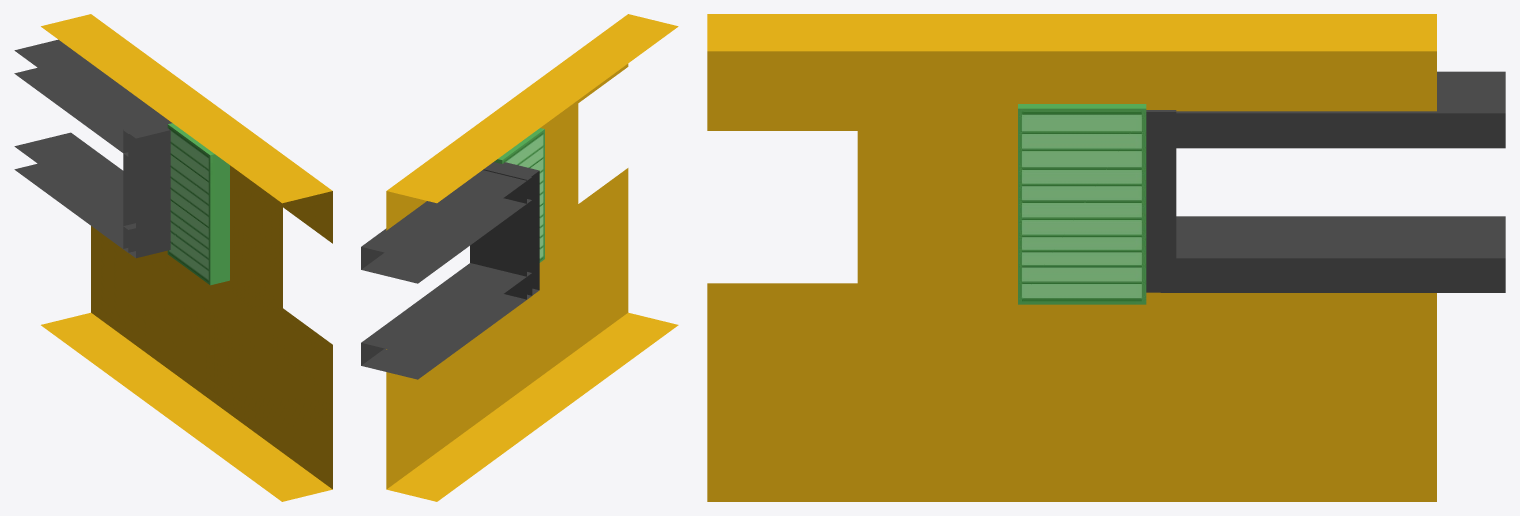
The model's file is SHUTTER6.obj.
3 views of the same model, side by side, from view 1: azimuth 30°, elevation 25°; view 2: azimuth 150°, elevation 25°; view 3: azimuth 270°, elevation 25° (orthographic). The views are drawn at different scales.
Visible parts, largest first — view 1: user; view 2: user; view 3: user.
Boxes of the visible parts, box(x1,y1,x2,y2) form: user: box(14, 14, 332, 501); user: box(361, 14, 678, 501); user: box(707, 14, 1505, 501).
Size of the model in its own units: 27.33 by 129 by 208.
4 materials, 4 textured.
